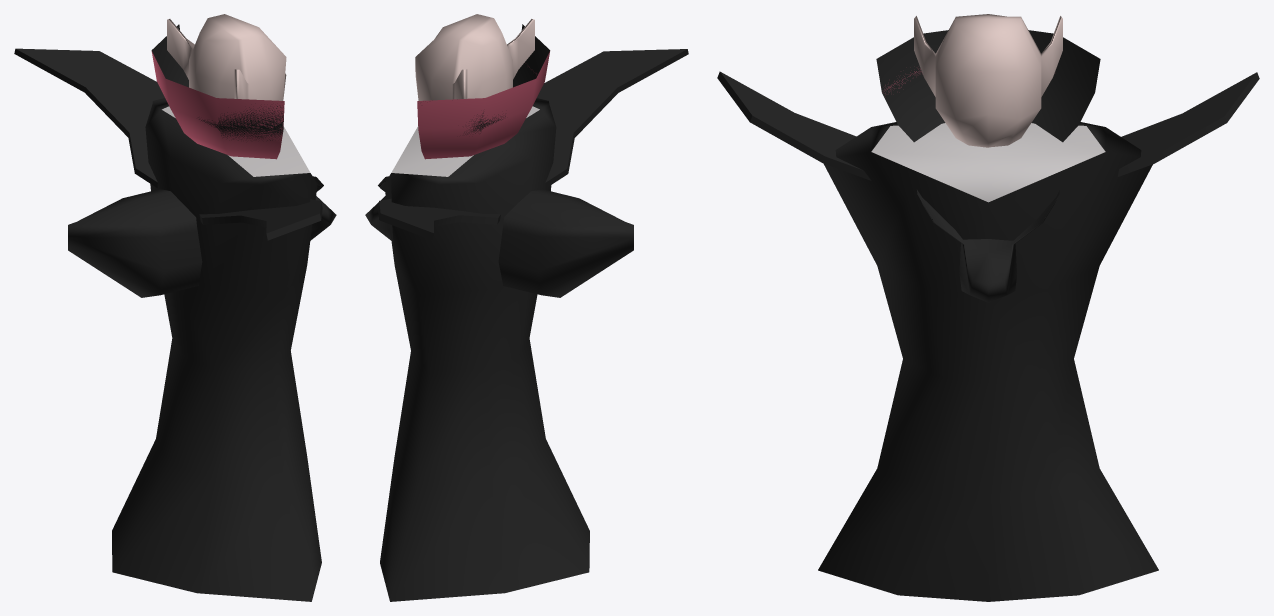
The model's file is characters.fbx.
3 renders of one model, left to right at view 1: azimuth 30°, elevation 25°; view 2: azimuth 150°, elevation 25°; view 3: azimuth 270°, elevation 25°, orthographic. The views are drawn at different scales.
Visible parts, largest first — view 1: pSphere4, pCube11, pPlane2, pPlane3; view 2: pSphere4, pCube11, pPlane3, pPlane2; view 3: pSphere4, pPlane3, pPlane2, pCube11.
Part boxes in pixels (x1=…): pSphere4: x1=112, y1=14, x2=321, y2=601; pCube11: x1=68, y1=176, x2=336, y2=297; pPlane2: x1=14, y1=48, x2=164, y2=187; pPlane3: x1=199, y1=199, x2=322, y2=240; pSphere4: x1=380, y1=14, x2=589, y2=601; pCube11: x1=365, y1=176, x2=633, y2=297; pPlane3: x1=537, y1=49, x2=688, y2=188; pPlane2: x1=378, y1=198, x2=500, y2=240; pSphere4: x1=818, y1=14, x2=1158, y2=601; pPlane3: x1=717, y1=71, x2=871, y2=180; pPlane2: x1=1117, y1=72, x2=1259, y2=176; pCube11: x1=917, y1=190, x2=1059, y2=302.
Size of the model in its own units: 7.17 by 13.16 by 11.78.
